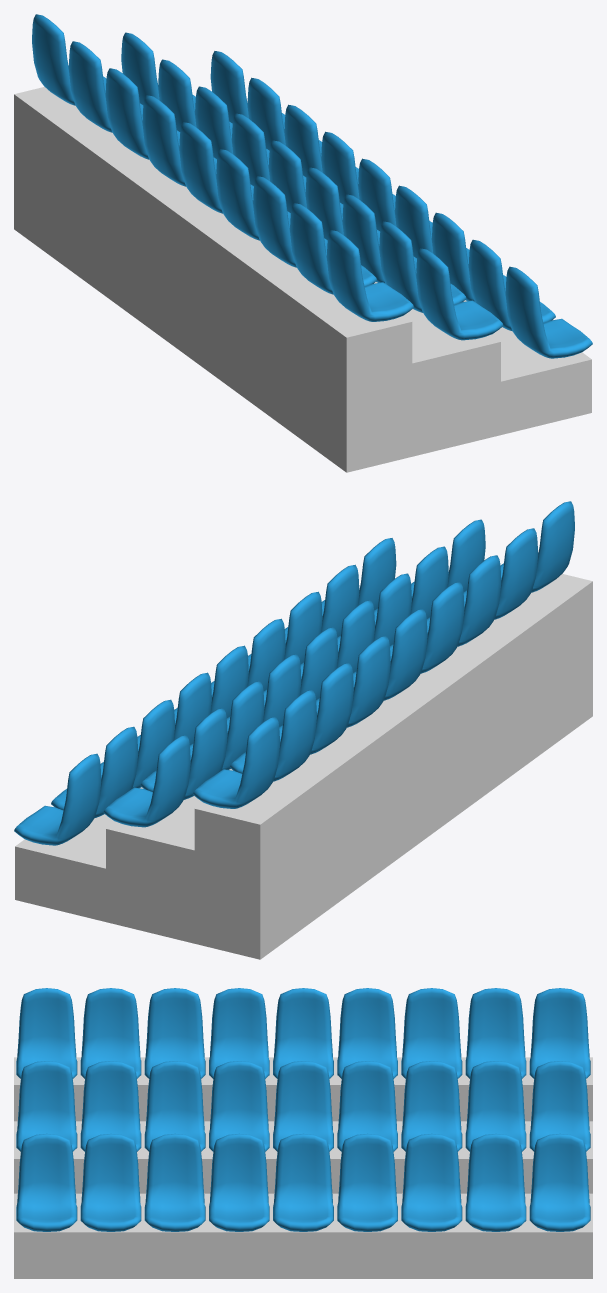
File: Seats.fbx
The picture shows the model from 3 angles, top to bottom: view 1: azimuth 30°, elevation 25°; view 2: azimuth 150°, elevation 25°; view 3: azimuth 270°, elevation 25°; orthographic projection. The views are drawn at different scales.
Visible parts, largest first — view 1: Cube, Chair.027, Chair.001, Chair.028, Chair.029, Chair.026, Chair.002, Chair.032, Chair.031, Chair.036, Chair.033, Chair.035 (+16 smaller); view 2: Cube, Chair.019, Chair.009, Chair.036, Chair.035, Chair.020, Chair.008, Chair.033, Chair.032, Chair.028, Chair.031, Chair.030 (+16 smaller); view 3: Cube, Chair.002, Chair.008, Chair.007, Chair.001, Chair.003, Chair.009, Chair.004, Chair.006, Chair.005, Chair.021, Chair.027 (+16 smaller).
Part boxes in pixels (left/top/right/bottom): Cube: left=14, top=87, right=591, bottom=472; Chair.027: left=416, top=248, right=503, bottom=340; Chair.001: left=505, top=266, right=592, bottom=358; Chair.028: left=326, top=230, right=413, bottom=321; Chair.029: left=290, top=203, right=377, bottom=294; Chair.026: left=379, top=221, right=466, bottom=312; Chair.002: left=468, top=239, right=555, bottom=331; Chair.032: left=179, top=122, right=253, bottom=213; Chair.031: left=216, top=149, right=290, bottom=240; Chair.036: left=32, top=14, right=106, bottom=105; Chair.033: left=142, top=95, right=216, bottom=186; Chair.035: left=68, top=41, right=143, bottom=132; Cube: left=15, top=574, right=592, bottom=959; Chair.019: left=103, top=735, right=190, bottom=827; Chair.009: left=14, top=753, right=101, bottom=845; Chair.036: left=193, top=717, right=280, bottom=808; Chair.035: left=229, top=690, right=316, bottom=781; Chair.020: left=140, top=708, right=227, bottom=799; Chair.008: left=51, top=726, right=138, bottom=818; Chair.033: left=316, top=636, right=390, bottom=727; Chair.032: left=353, top=609, right=427, bottom=700; Chair.028: left=500, top=501, right=574, bottom=592; Chair.031: left=390, top=582, right=464, bottom=673; Chair.030: left=426, top=555, right=501, bottom=646; Cube: left=14, top=1057, right=592, bottom=1278; Chair.002: left=80, top=1133, right=141, bottom=1231; Chair.008: left=465, top=1133, right=526, bottom=1231; Chair.007: left=401, top=1133, right=462, bottom=1231; Chair.001: left=16, top=1133, right=77, bottom=1231; Chair.003: left=144, top=1133, right=205, bottom=1231; Chair.009: left=529, top=1133, right=590, bottom=1231; Chair.004: left=209, top=1133, right=269, bottom=1231; Chair.006: left=337, top=1133, right=397, bottom=1231; Chair.005: left=273, top=1133, right=333, bottom=1231; Chair.021: left=401, top=1061, right=462, bottom=1151; Chair.027: left=16, top=1061, right=77, bottom=1151.
Size of the model in its own units: 997 by 827 by 2256.
